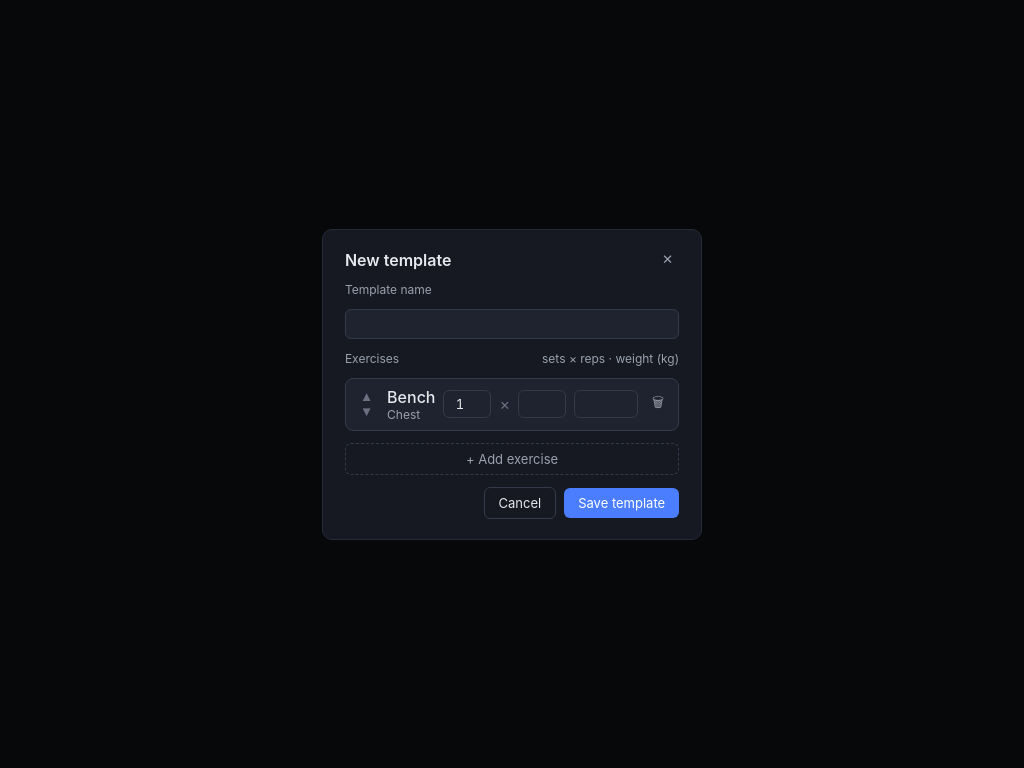
Scenario: TemplateFormModal › renders the empty-state nudge for a 0-set row
Replace the text in the number field with test id "row-sets" with "0" at (468, 404), box [444, 390, 492, 418]
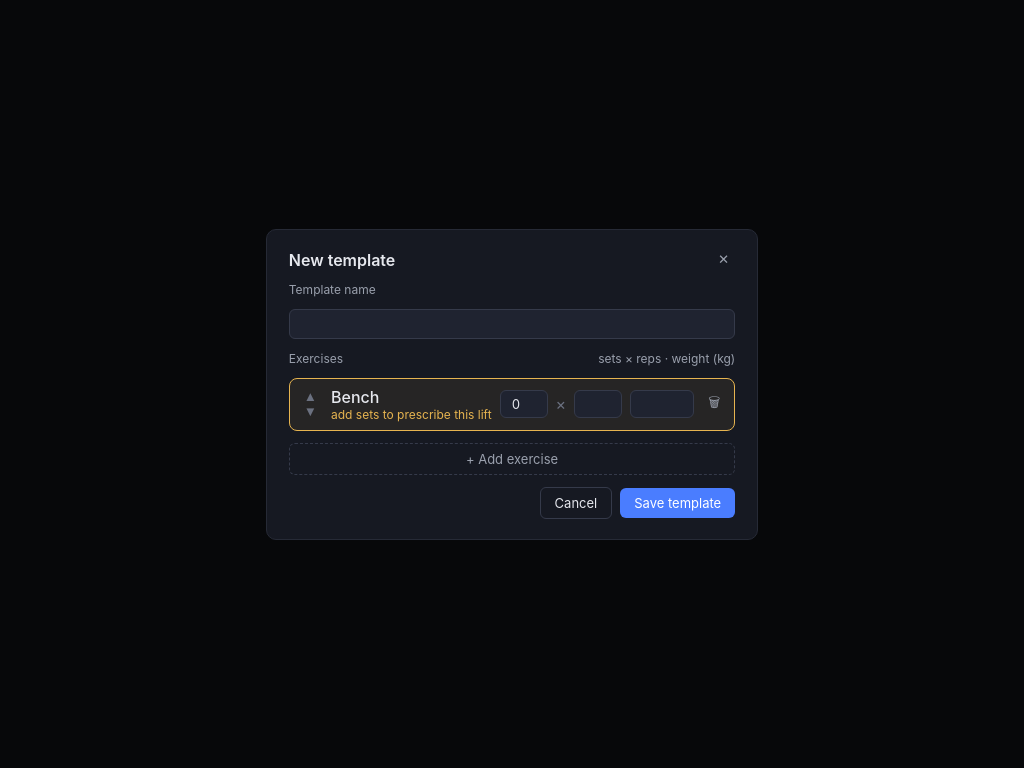
Result: the text "add sets to prescribe this lift" is shown at [331, 406, 492, 422]
